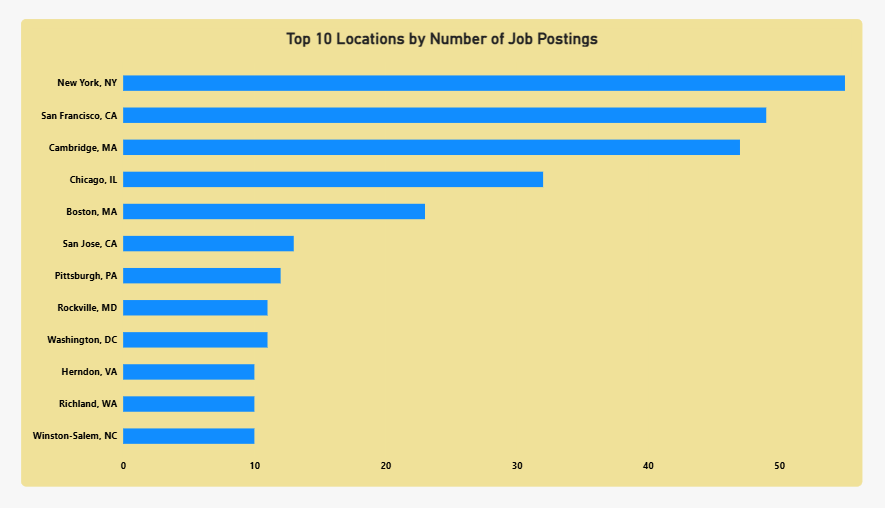

What the dashboard file says about the page in this screenshot:
{"tool":"powerbi","page":{"name":"Page 3","canvas":[1920,1080],"ordinal":2},"visuals":[{"type":"clusteredBarChart","title":"Top 10 Locations by Number of Job Postings","fields":{"Category":["job_market_analysis.Location"],"Y":["CountNonNull(job_market_analysis.ID)"]},"box":[360,268,1274,708],"z":0}]}

Visuals, with their boxes in screenshot pixels (x1, y1, x2, y2), scaled from the page's 1920x1080 canvas onto the 885x508 screenshot:
"Top 10 Locations by Number of Job Postings" clusteredBarChart: select_region(166, 126, 753, 459)
